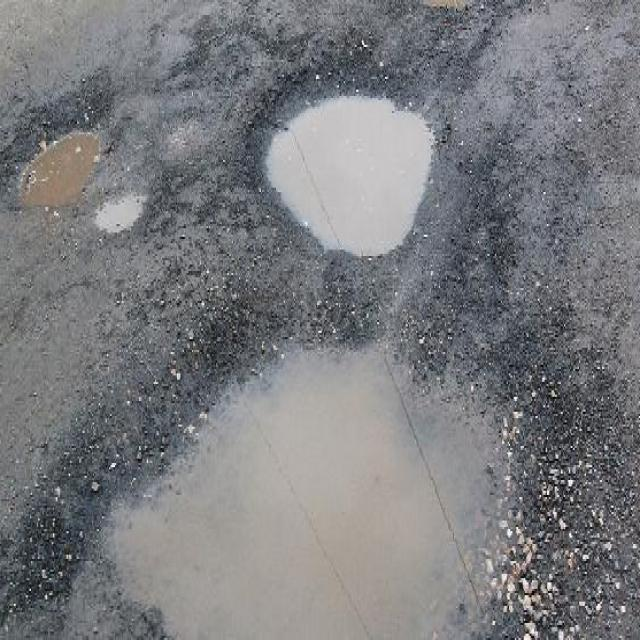Pothole: (37, 287, 550, 639), (253, 59, 452, 262), (2, 93, 117, 215), (94, 183, 149, 238)
